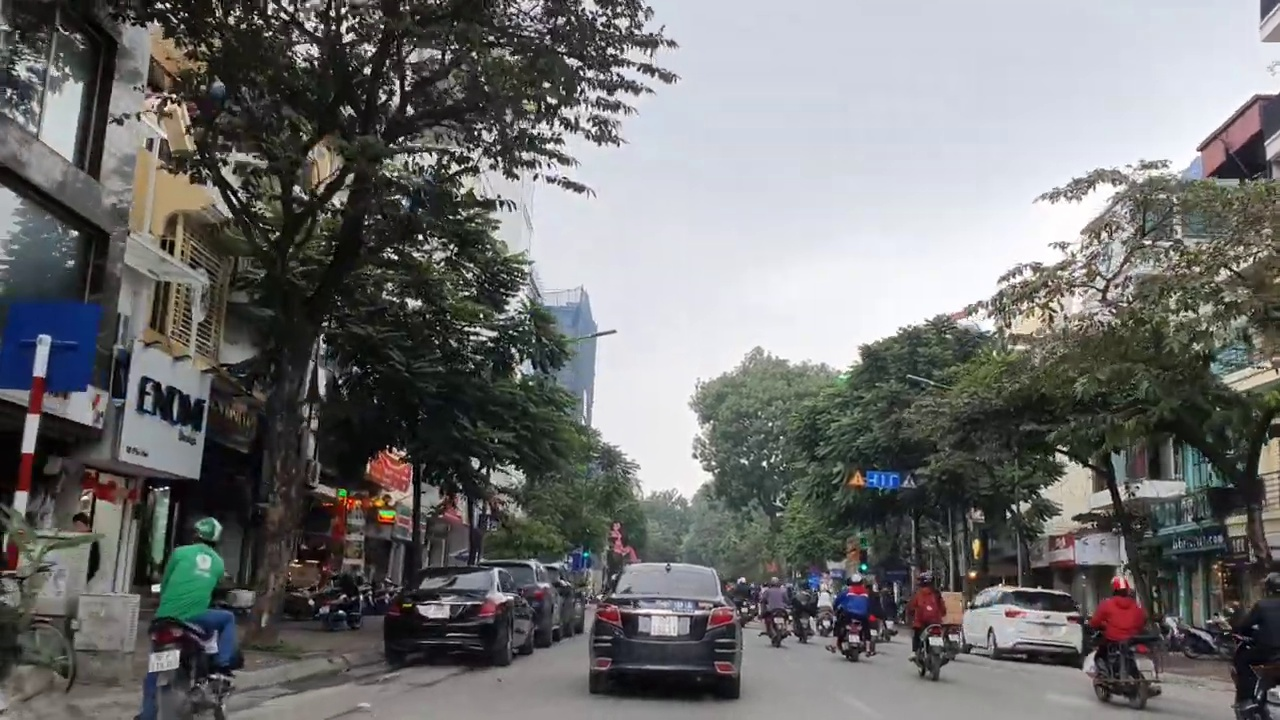vehicle-plate: (147, 651, 180, 671), (429, 603, 451, 618)
